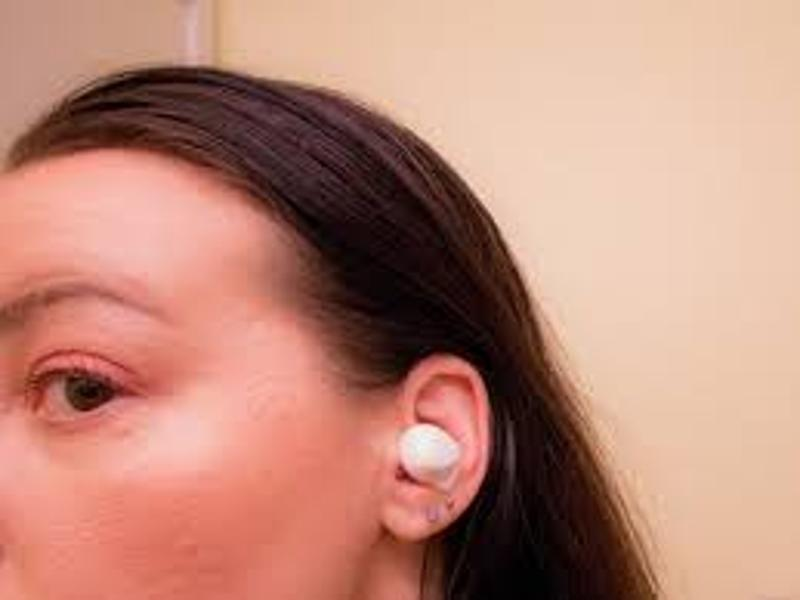headphone: (393, 419, 466, 492)
